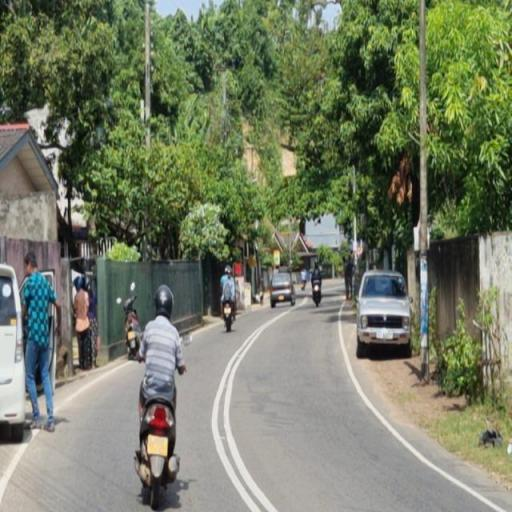double_white_line: (211, 307, 276, 512)
